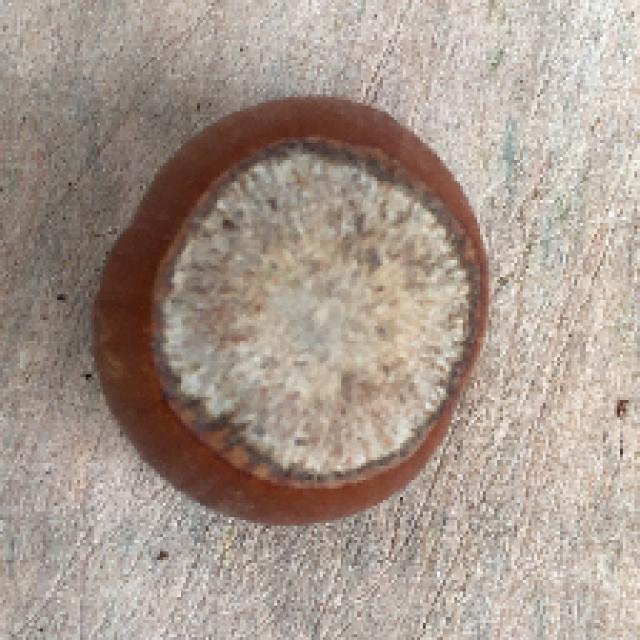qualityHazelnut: (95, 90, 491, 532)
